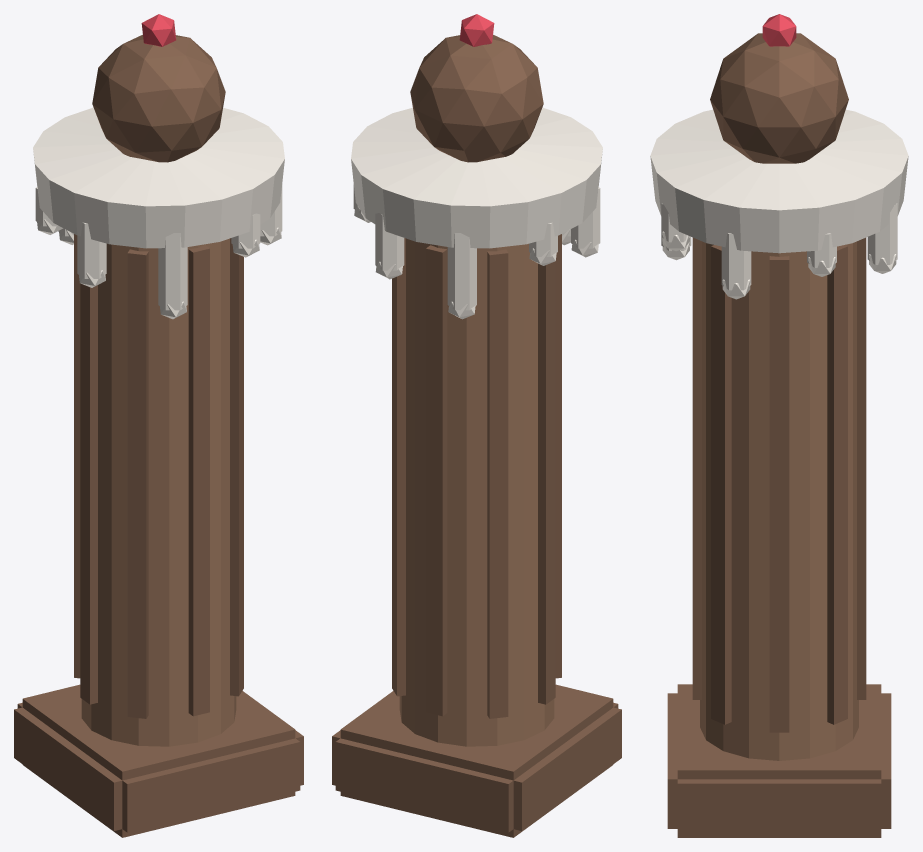
File: HOB_ChocoPillar.fbx
The picture shows the model from 3 angles, left to right: view 1: azimuth 30°, elevation 25°; view 2: azimuth 150°, elevation 25°; view 3: azimuth 270°, elevation 25°; orthographic projection.
Parts seen in each view (by area): view 1: HOB_ChocoPillar; view 2: HOB_ChocoPillar; view 3: HOB_ChocoPillar.
Part boxes in pixels (x1,y1,x2,y2): HOB_ChocoPillar: (14, 14, 303, 837); HOB_ChocoPillar: (332, 14, 621, 837); HOB_ChocoPillar: (650, 14, 908, 837).
Bounding box in the file's own units: 104 × 347 × 104.
